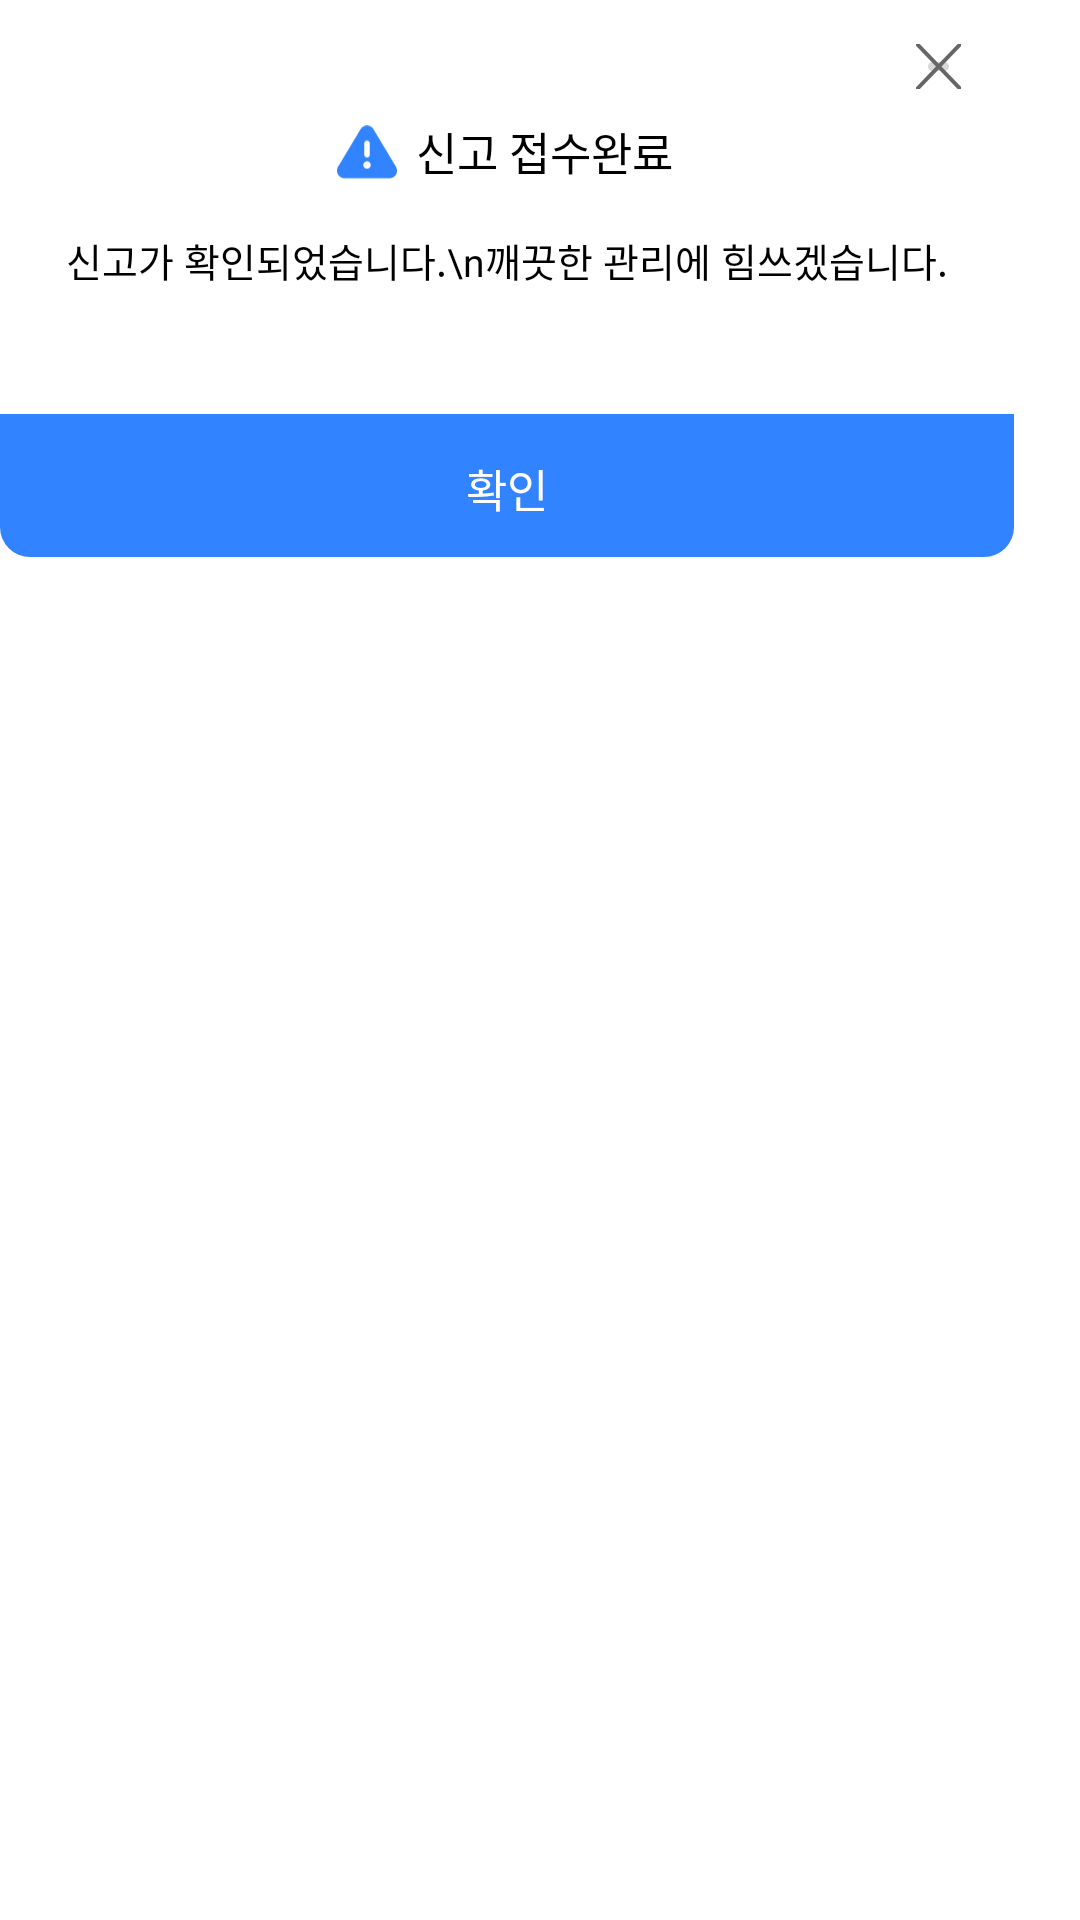

Screen size 1080px x 1920px. Icon name, then its center in pixels as (x,y):
alert: (367,152)
